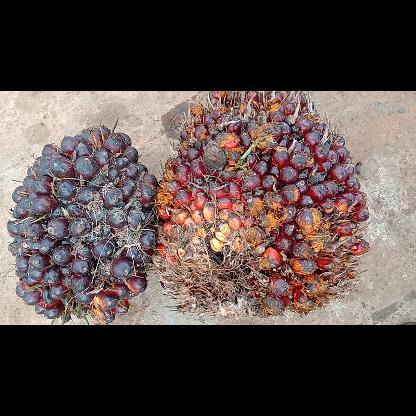TBS masak: (153, 90, 369, 315)
TBS mentah: (7, 126, 157, 324)
